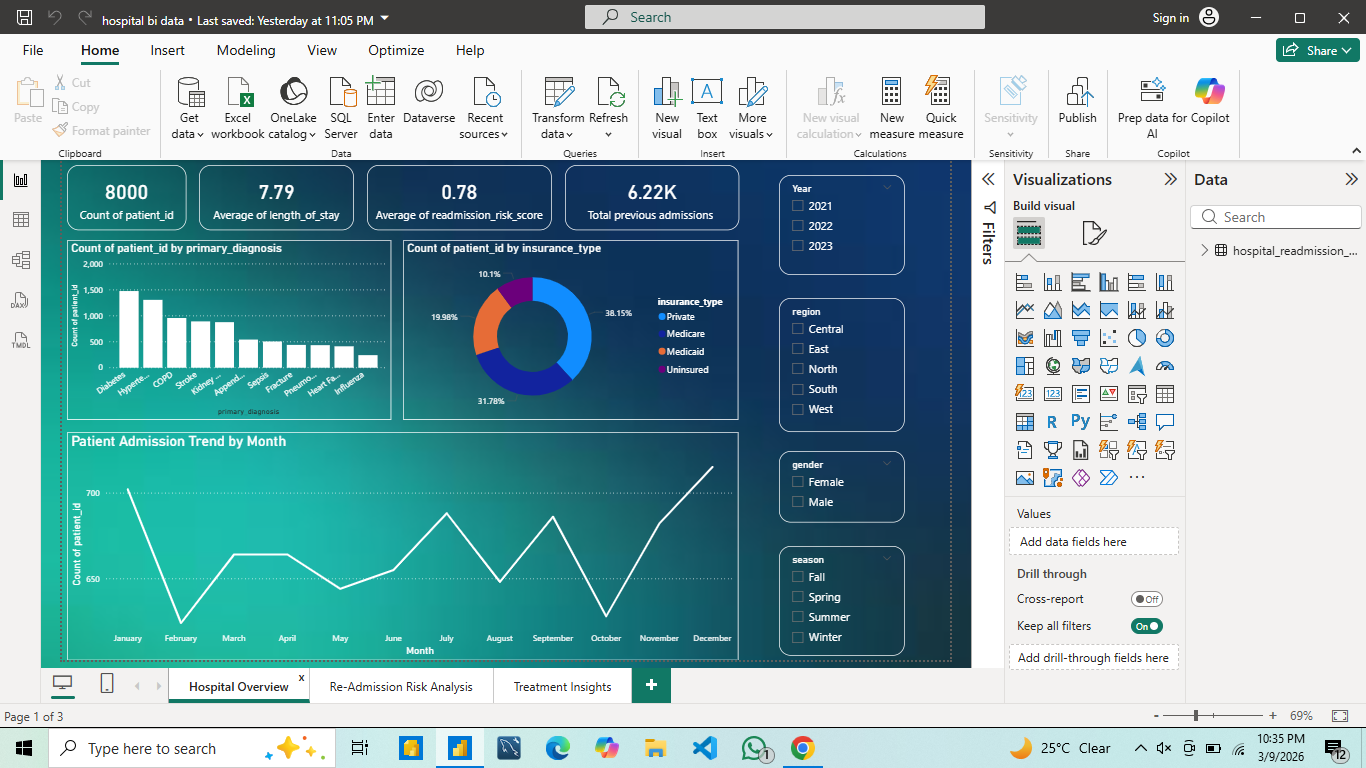

The page's visual inventory and layout, read from the dashboard file:
{"tool":"powerbi","page":{"name":"Hospital Overview ","canvas":[1280,720],"ordinal":0},"visuals":[{"type":"card","fields":{"Values":["CountNonNull(hospital_readmission_dataset.patient_id)"]},"box":[7.6,7.6,172.2,93.7],"z":0},{"type":"card","fields":{"Values":["Avg(hospital_readmission_dataset.length_of_stay)"]},"box":[197.5,7.6,222.8,93.7],"z":1000},{"type":"card","fields":{"Values":["Avg(hospital_readmission_dataset.readmission_risk_score)"]},"box":[439.2,7.6,265.8,93.7],"z":2000},{"type":"card","fields":{"Values":["Sum(hospital_readmission_dataset.readmission_risk_score)"]},"box":[724.1,7.6,250.6,93.7],"z":3000},{"type":"clusteredColumnChart","fields":{"Category":["hospital_readmission_dataset.primary_diagnosis"],"Y":["CountNonNull(hospital_readmission_dataset.patient_id)"]},"box":[7.1,115.7,467.1,258.6],"z":4000},{"type":"donutChart","fields":{"Category":["hospital_readmission_dataset.insurance_type"],"Y":["CountNonNull(hospital_readmission_dataset.patient_id)"]},"box":[491.4,115.7,482.9,258.6],"z":5000},{"type":"slicer","fields":{"Values":["hospital_readmission_dataset.season"]},"box":[1032.8,555.2,180.6,158.2],"z":6000},{"type":"slicer","fields":{"Values":["hospital_readmission_dataset.gender"]},"box":[1032.8,419.4,180.6,103],"z":7000},{"type":"slicer","fields":{"Values":["hospital_readmission_dataset.region"]},"box":[1032.8,198.5,180.6,192.5],"z":8000},{"type":"lineChart","title":"Patient Admission Trend by Month ","fields":{"Y":["CountNonNull(hospital_readmission_dataset.patient_id)"],"Category":["hospital_readmission_dataset.admission_date.Variation.Date Hierarchy.Month"]},"box":[7.6,391.1,967.1,329.1],"z":9000},{"type":"slicer","fields":{"Values":["hospital_readmission_dataset.admission_date.Variation.Date Hierarchy.Year"]},"box":[1032.9,21.5,181,144.3],"z":10000}]}

Visuals, with their boxes on the page's 1280x720 design canvas (x1, y1, x2, y2). These are canvas units, not pixel positions in the 1366x768 screenshot, which may show the page scaled, cropped or inside an application window:
card - CountNonNull(hospital_readmission_dataset.patient_id): <bbox>8, 8, 180, 101</bbox>
card - Avg(hospital_readmission_dataset.length_of_stay): <bbox>198, 8, 420, 101</bbox>
card - Avg(hospital_readmission_dataset.readmission_risk_score): <bbox>439, 8, 705, 101</bbox>
card - Sum(hospital_readmission_dataset.readmission_risk_score): <bbox>724, 8, 975, 101</bbox>
clusteredColumnChart - hospital_readmission_dataset.primary_diagnosis x CountNonNull(hospital_readmission_dataset.patient_id): <bbox>7, 116, 474, 374</bbox>
donutChart - hospital_readmission_dataset.insurance_type x CountNonNull(hospital_readmission_dataset.patient_id): <bbox>491, 116, 974, 374</bbox>
slicer - hospital_readmission_dataset.season: <bbox>1033, 555, 1213, 713</bbox>
slicer - hospital_readmission_dataset.gender: <bbox>1033, 419, 1213, 522</bbox>
slicer - hospital_readmission_dataset.region: <bbox>1033, 198, 1213, 391</bbox>
"Patient Admission Trend by Month " lineChart: <bbox>8, 391, 975, 720</bbox>
slicer - hospital_readmission_dataset.admission_date.Variation.Date Hierarchy.Year: <bbox>1033, 22, 1214, 166</bbox>
